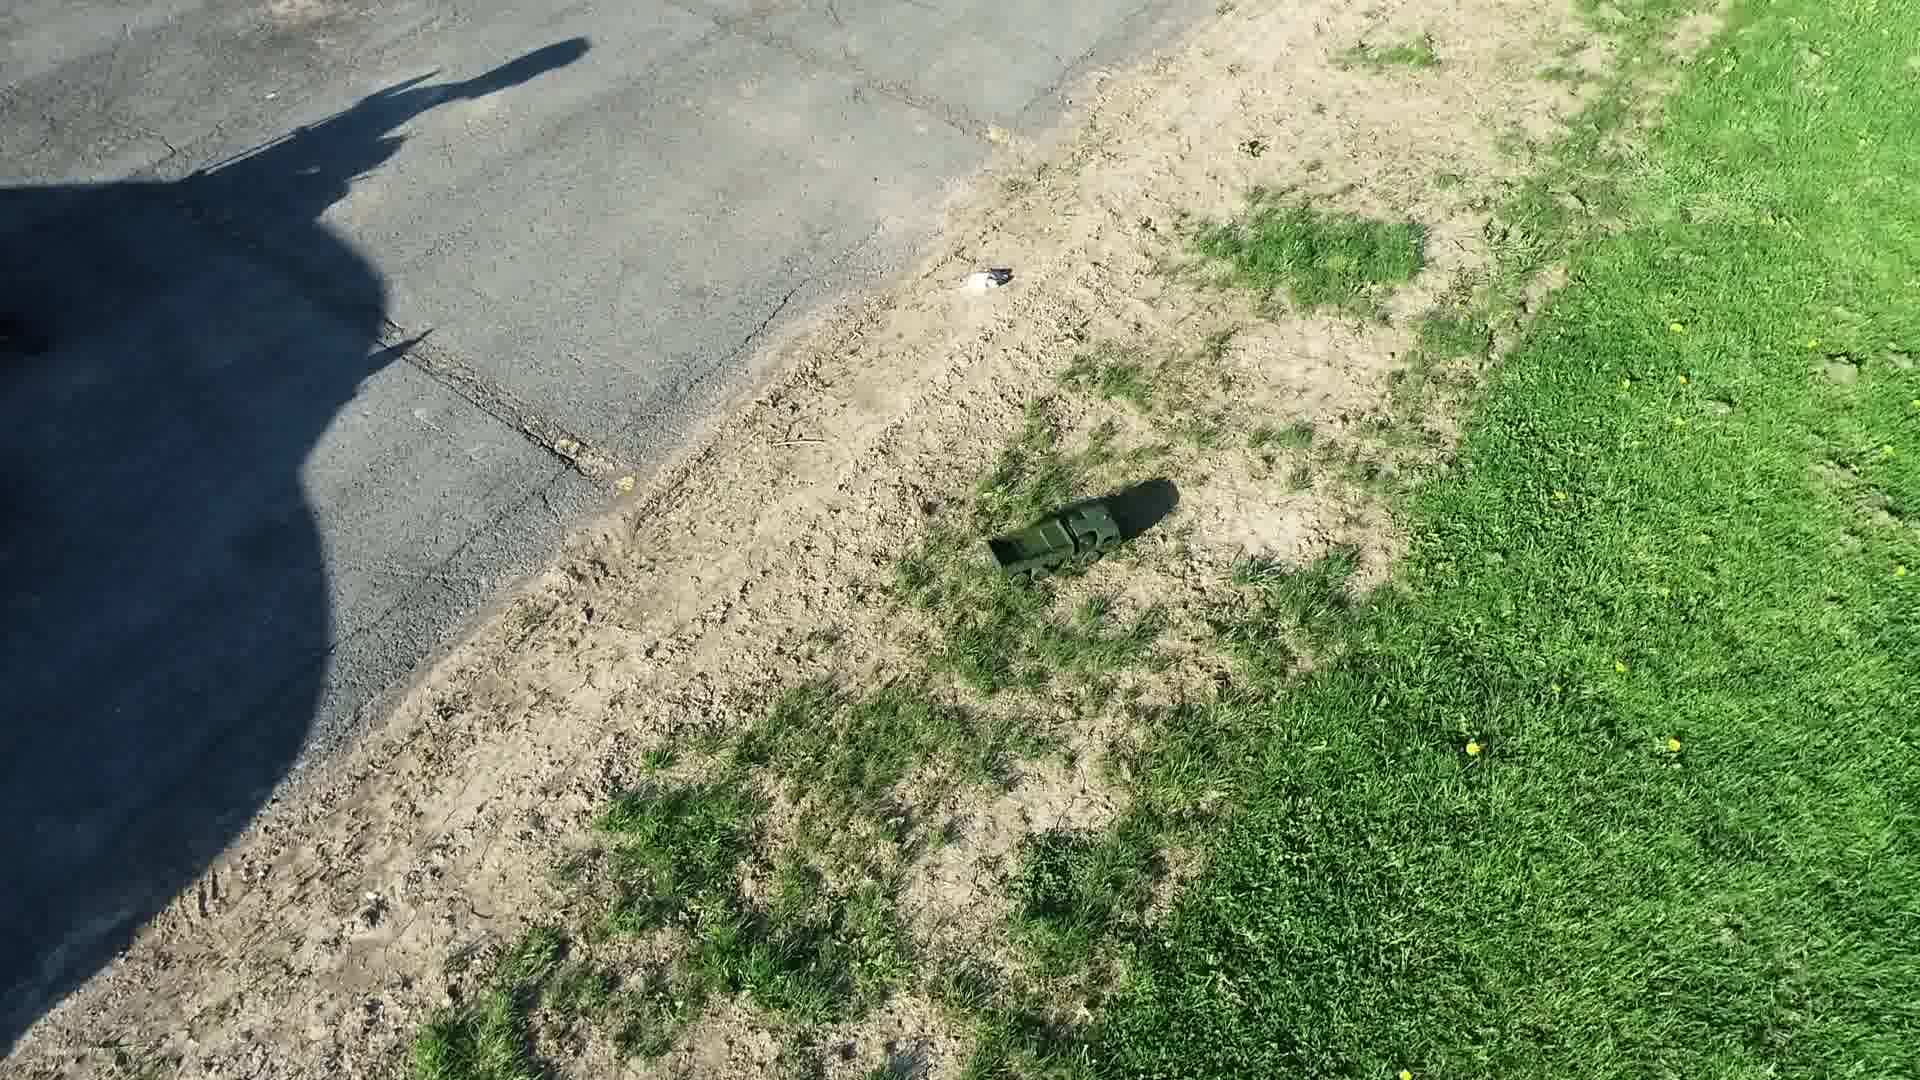transporter9: (978, 496, 1127, 591)
